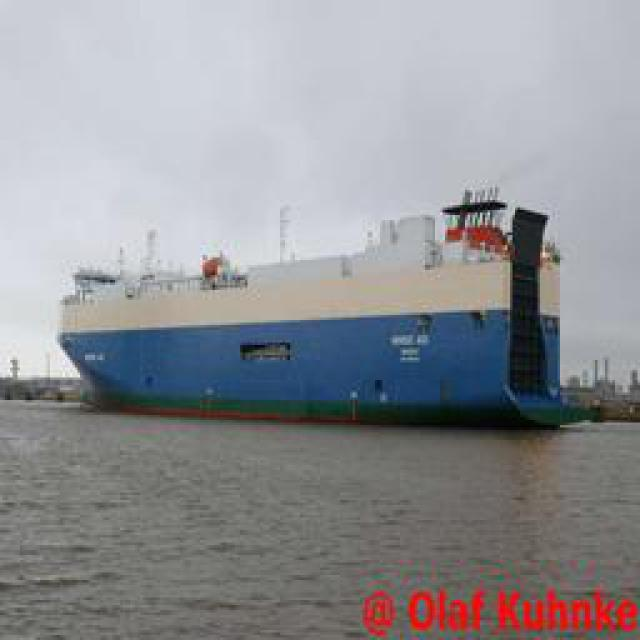Ship: (57, 179, 617, 422)
